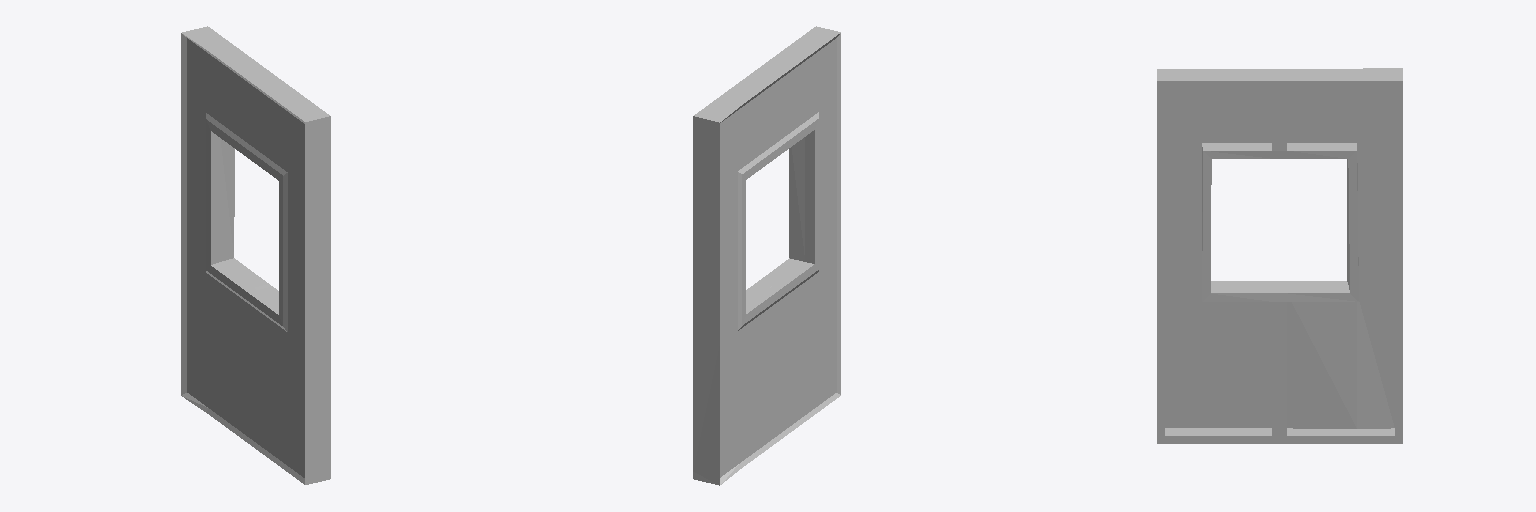
Rendered from WindowWallSegment.obj.
3 renders of one model, left to right at view 1: azimuth 30°, elevation 25°; view 2: azimuth 150°, elevation 25°; view 3: azimuth 270°, elevation 25°, orthographic.
Parts seen in each view (by area): view 1: WindowWallSegment; view 2: WindowWallSegment; view 3: WindowWallSegment.
Boxes of the visible parts, x1=… form: WindowWallSegment: x1=181, y1=26, x2=330, y2=484; WindowWallSegment: x1=693, y1=26, x2=840, y2=485; WindowWallSegment: x1=1157, y1=68, x2=1402, y2=443.
Bounding box in the file's own units: 0.2377 × 3.06 × 1.88.